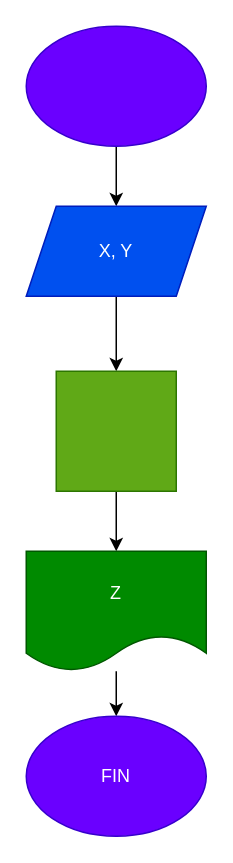
Image size: 233x863. Some labels were removed from this diagram. Each missing label, with the centre of its shape:
INICIO: point (115, 85)
Z = X+ Y: point (115, 430)
